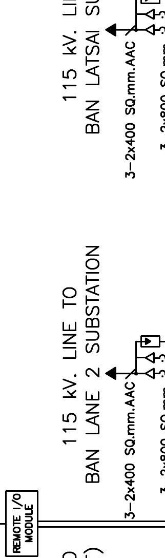remote_io_module: (5, 490, 39, 557)
terminator_double: (135, 351, 155, 380), (135, 8, 155, 36)
